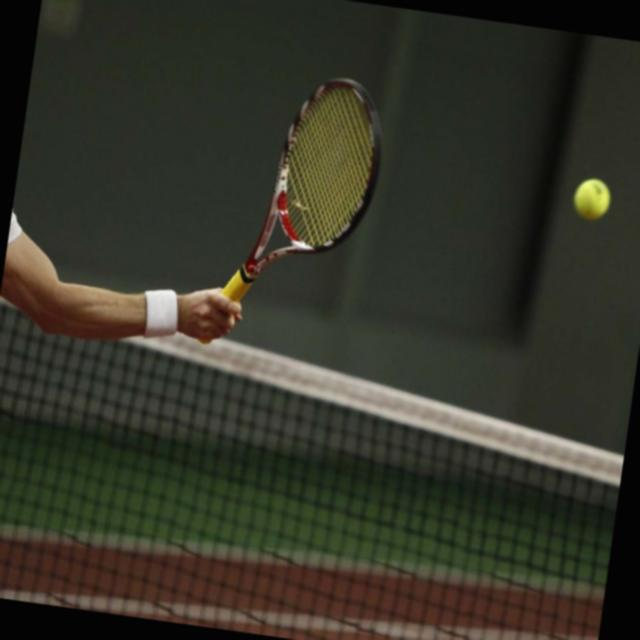Tennis Ball: (571, 175, 612, 222)
